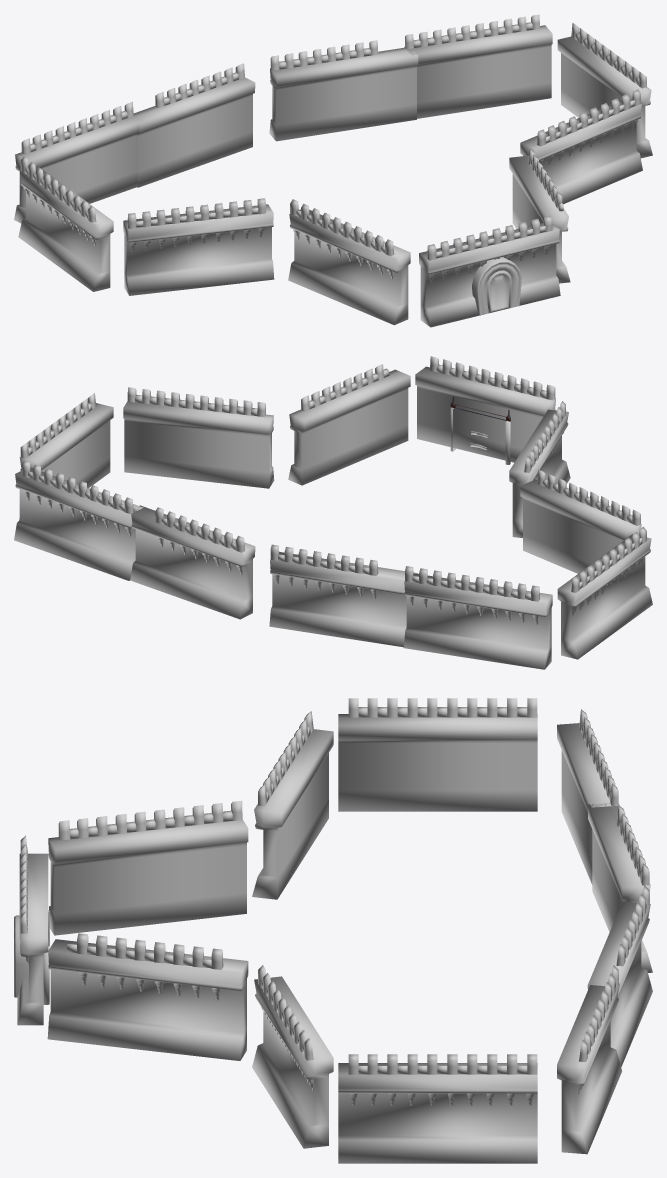
The model's file is CH_Castle_Walls.FBX.
The picture shows the model from 3 angles, top to bottom: view 1: azimuth 30°, elevation 25°; view 2: azimuth 150°, elevation 25°; view 3: azimuth 270°, elevation 25°; orthographic projection. The views are drawn at different scales.
Visible parts, largest first — view 1: CH_Castle_Walls; view 2: CH_Castle_Walls; view 3: CH_Castle_Walls.
Boxes of the visible parts, x1,y1,x2,y2 form: CH_Castle_Walls: (14,14,652,327); CH_Castle_Walls: (14,356,652,669); CH_Castle_Walls: (14,698,652,1163).
Bounding box in the file's own units: 5419 × 752 × 4031.
